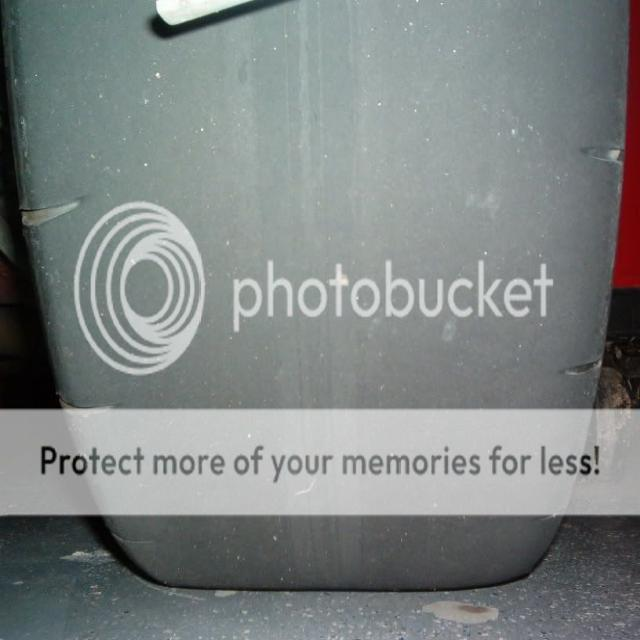Flat spots: (27, 0, 631, 222)
